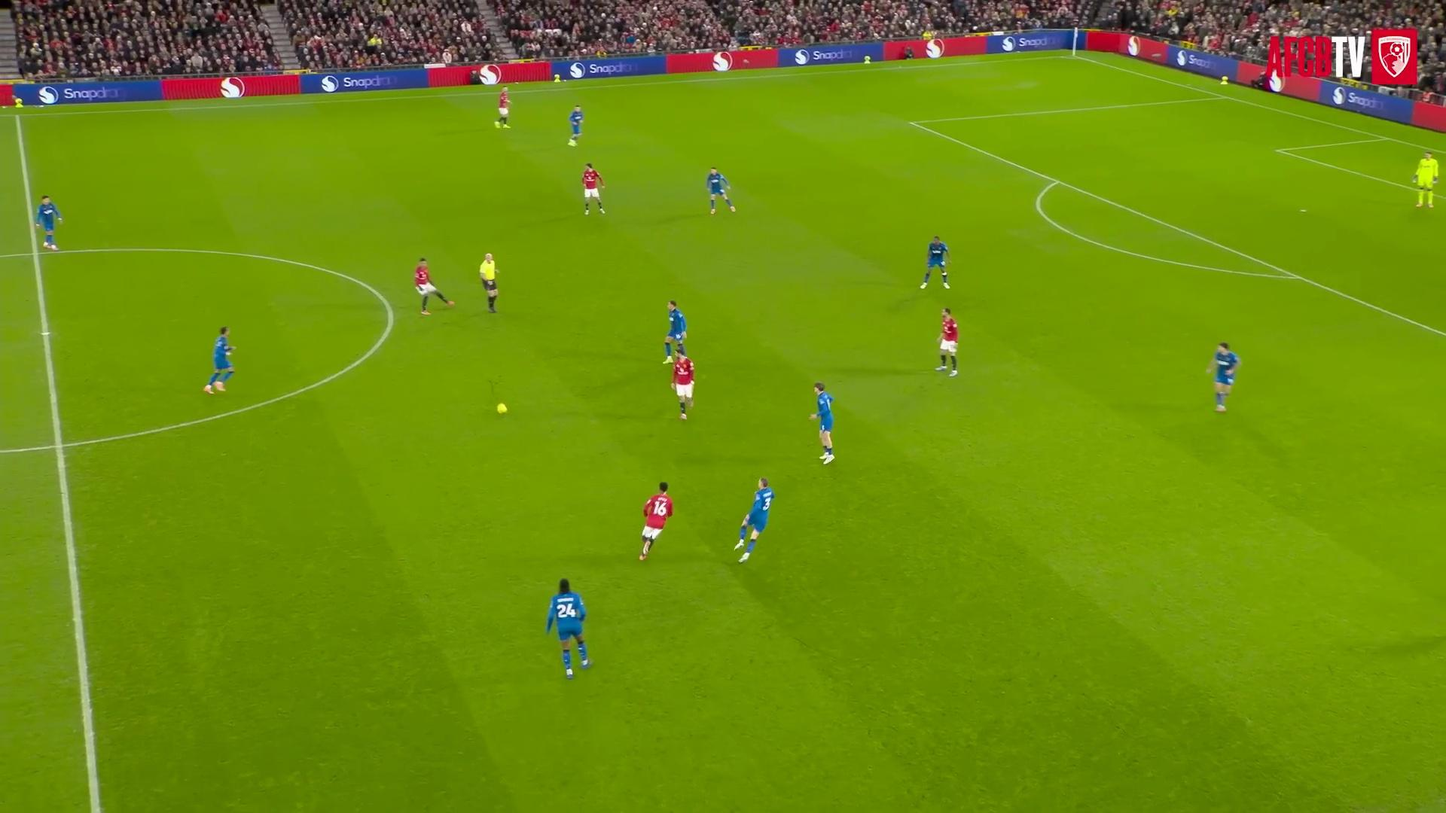football: (491, 394, 511, 426)
player: (545, 579, 590, 679), (1409, 133, 1445, 226), (734, 478, 773, 562), (639, 482, 673, 560), (1207, 342, 1240, 412), (414, 258, 453, 315), (203, 327, 233, 393), (810, 382, 834, 464), (673, 346, 694, 419), (35, 196, 63, 250), (936, 308, 958, 376), (920, 236, 948, 288), (665, 300, 686, 363), (707, 167, 735, 214), (581, 163, 605, 214), (494, 86, 510, 128), (568, 105, 583, 145)
referee: (479, 253, 497, 312)
